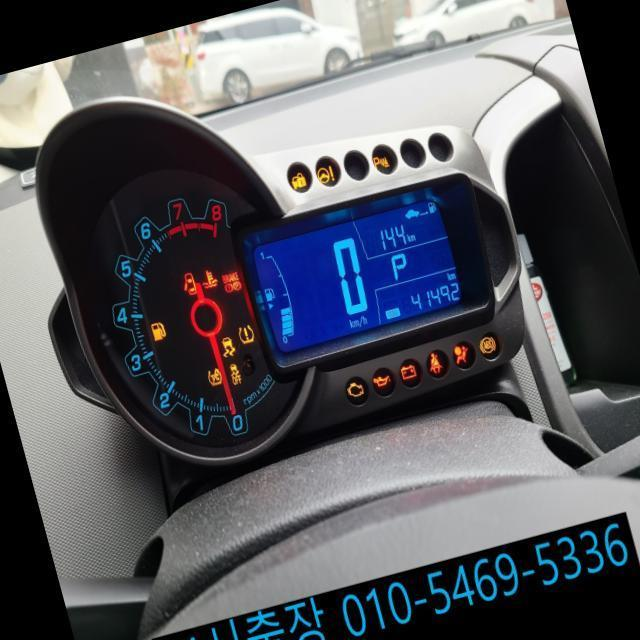Doors: (178, 270, 197, 296)
Engine cooling system: (196, 266, 218, 290)
Low fuel level: (149, 318, 167, 342)
